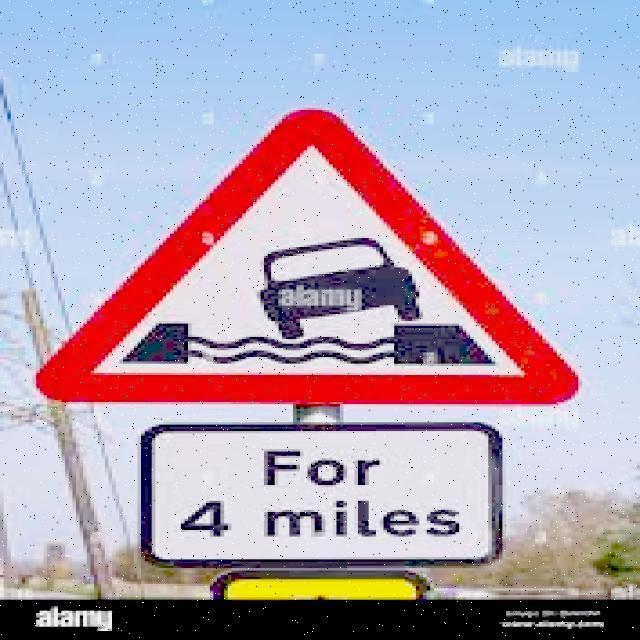Traffic sign: (33, 104, 586, 571)
